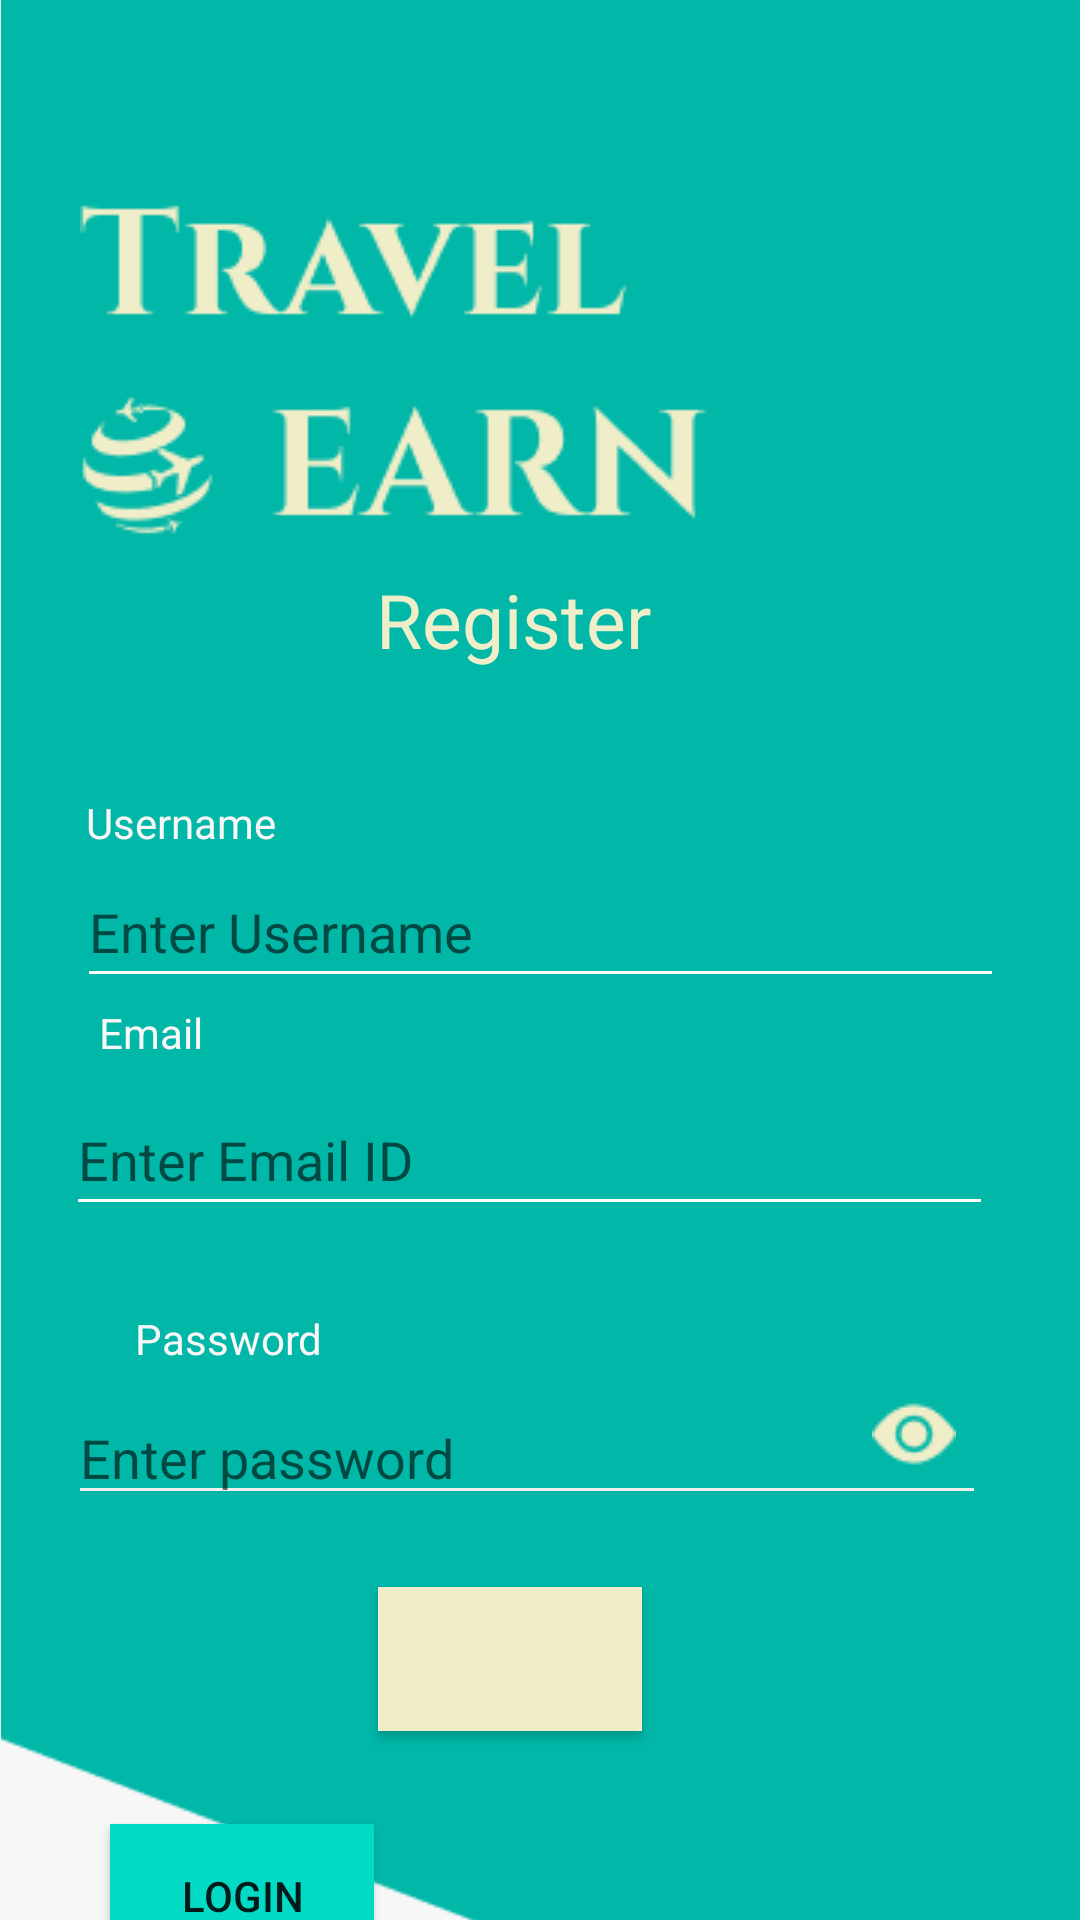

Named icons in this screenshot (1080 x 1920) and their centers, [x,y]:
eye: [914,1434]
